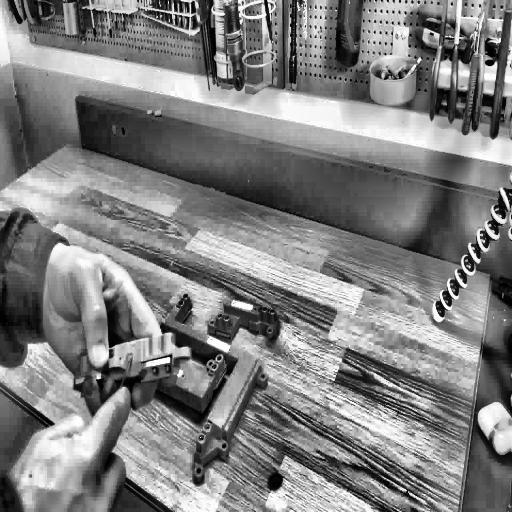busbar: (144, 291, 283, 480), (71, 334, 190, 395)
